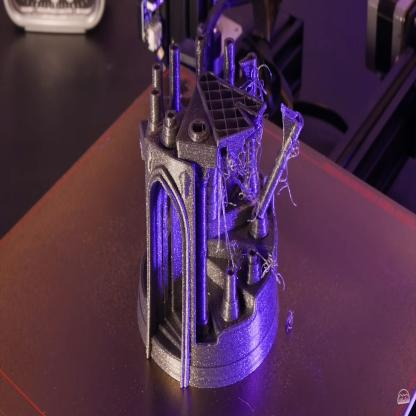fail: (221, 121, 267, 208), (248, 64, 275, 107), (261, 241, 280, 291)
